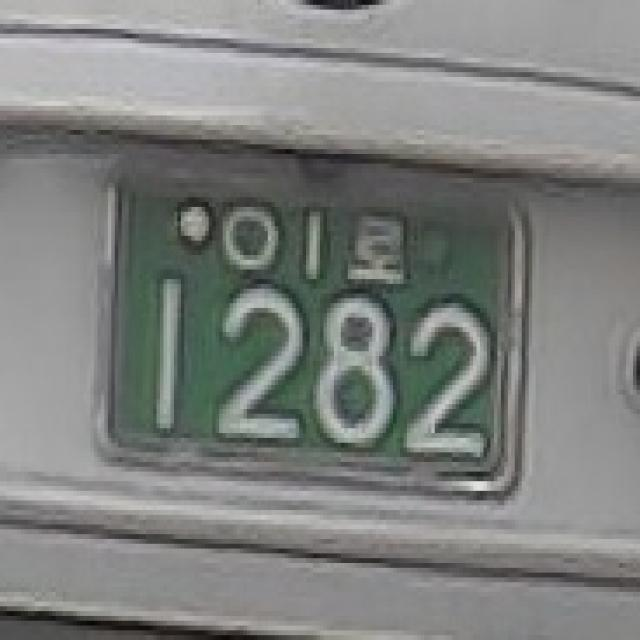0: (219, 197, 290, 274)
1: (154, 261, 190, 444), (298, 204, 328, 286)
2: (211, 278, 313, 449), (406, 293, 496, 472)
8: (316, 292, 401, 456)
license_plate: (106, 165, 534, 512)
lo: (342, 208, 418, 288)
